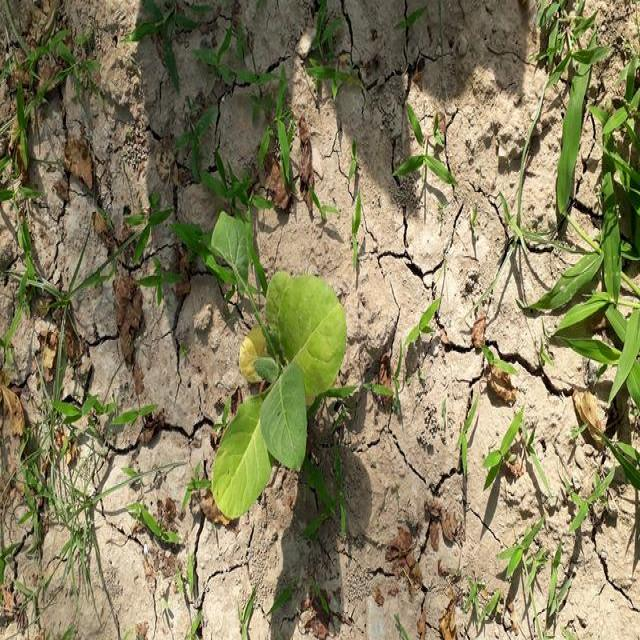crop: (202, 206, 344, 523)
